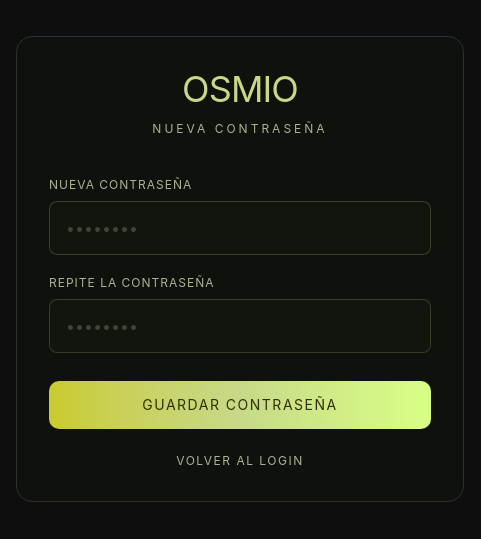
Scenario: ResetPasswordScreen › muestra error si la contraseña tiene menos de 6 caracteres
Type "12345" into the password field labelled "Nueva contraseña" at (240, 228), box [49,201,431,255]
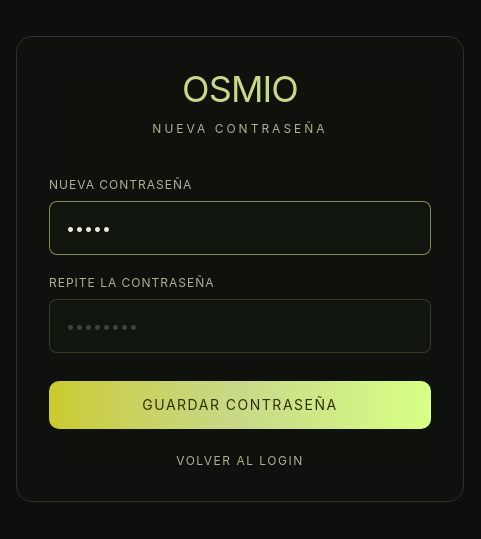
Type "12345" into the password field labelled "Repite la contraseña" at (240, 326), box [49,299,431,353]
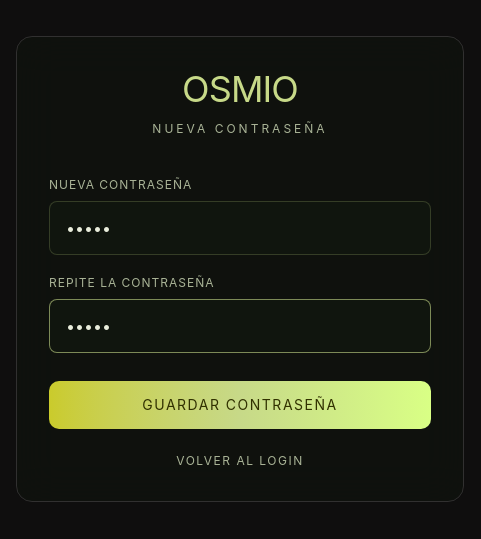
Click the button "GUARDAR CONTRASEÑA" at (240, 405), box [49,381,431,429]
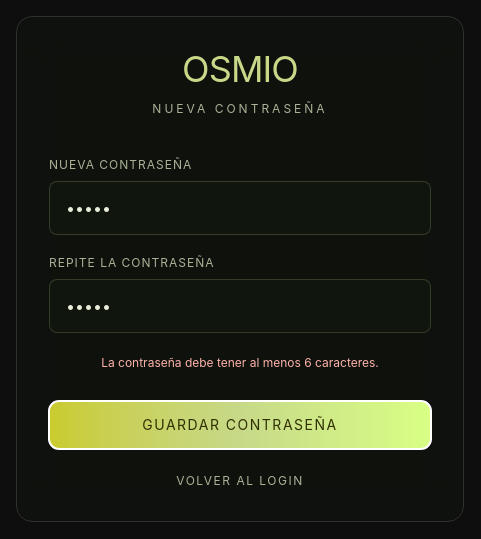
Expected: the text "La contraseña debe tener al menos 6 caracteres." is shown, [101,355,379,370]
